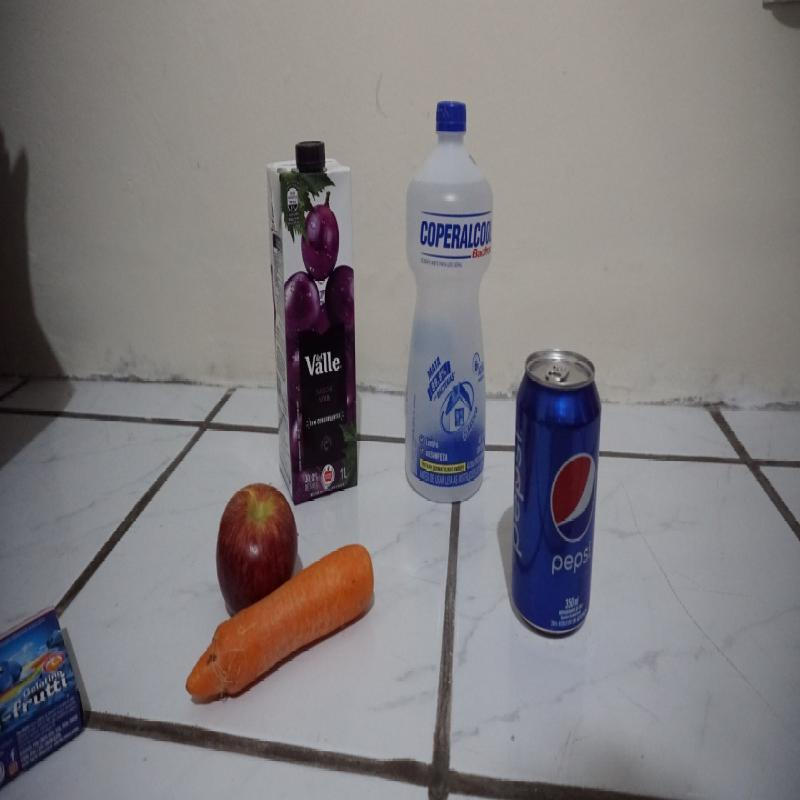Alcohol Bottle: (401, 99, 496, 508)
Apple: (211, 478, 306, 618)
Carrot: (182, 541, 376, 709)
Gelatine: (0, 594, 89, 788)
Soda can: (512, 346, 602, 640)
